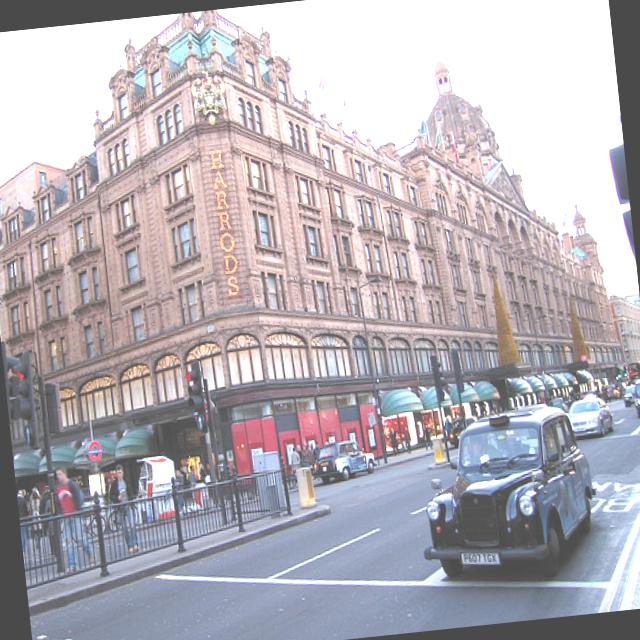Vehicle: (409, 398, 606, 588), (308, 437, 378, 488), (567, 396, 617, 438), (446, 413, 480, 448), (546, 395, 568, 414), (622, 385, 638, 407), (632, 376, 640, 417)
